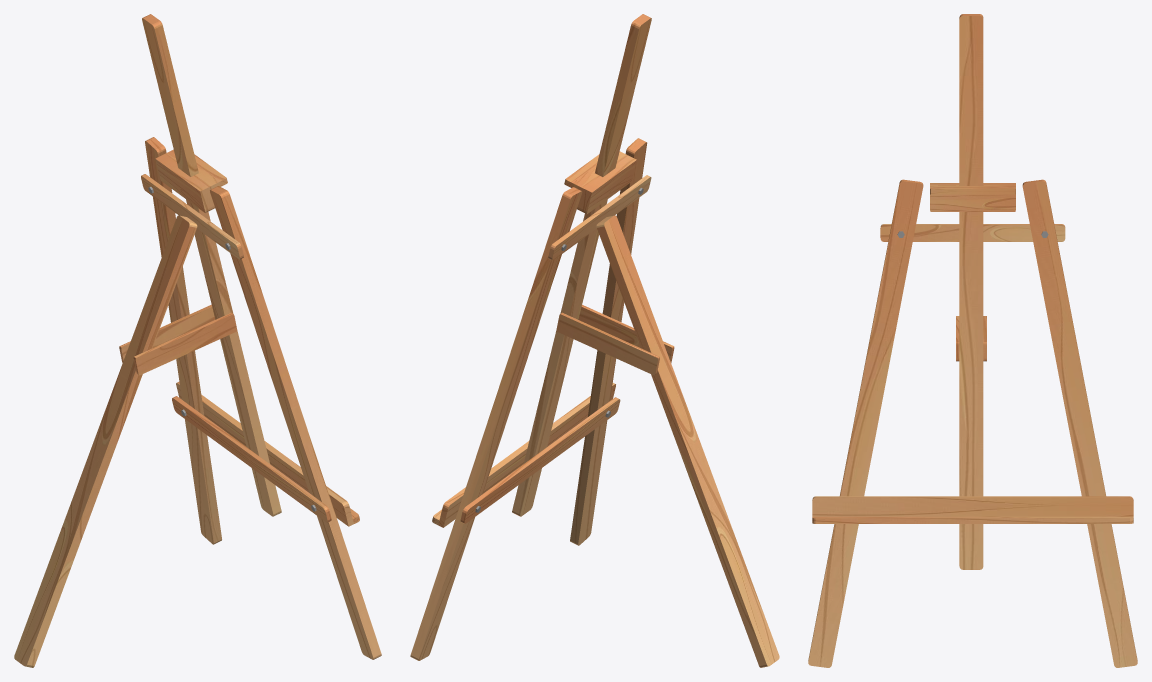
File: pupitre.fbx
3 renders of one model, left to right at view 1: azimuth 30°, elevation 25°; view 2: azimuth 150°, elevation 25°; view 3: azimuth 270°, elevation 25°, orthographic. The views are drawn at different scales.
Parts seen in each view (by area): view 1: Support, TigesCotes, TigeCentrale, TigesCotes.001, ArriereReposeTableau, ReposeTableau, EntreDeuxGauche, Taquet, ArriereHaut, EntreDeuxDroite; view 2: Support, TigesCotes.001, TigeCentrale, TigesCotes, ArriereReposeTableau, ReposeTableau, EntreDeuxDroite, Taquet, ArriereHaut, EntreDeuxGauche; view 3: TigeCentrale, TigesCotes, TigesCotes.001, ReposeTableau, Taquet, ArriereHaut.
Boxes of the visible parts, box(x1,y1,x2,y2) form: Support: box(14, 215, 197, 667); TigesCotes: box(210, 186, 381, 659); TigeCentrale: box(142, 14, 281, 516); TigesCotes.001: box(145, 137, 221, 544); ArriereReposeTableau: box(172, 396, 331, 522); ReposeTableau: box(176, 382, 359, 526); EntreDeuxGauche: box(133, 312, 237, 375); Taquet: box(155, 149, 227, 212); ArriereHaut: box(141, 174, 243, 259); EntreDeuxDroite: box(119, 304, 215, 362); Support: box(596, 215, 779, 667); TigesCotes.001: box(410, 187, 582, 660); TigeCentrale: box(512, 14, 651, 516); TigesCotes: box(570, 138, 647, 545); ArriereReposeTableau: box(460, 397, 620, 523); ReposeTableau: box(432, 383, 615, 527); EntreDeuxDroite: box(556, 312, 659, 375); Taquet: box(564, 151, 636, 213); ArriereHaut: box(548, 175, 651, 260); EntreDeuxGauche: box(578, 304, 674, 362); TigeCentrale: box(959, 14, 983, 569); TigesCotes: box(808, 179, 923, 667); TigesCotes.001: box(1022, 179, 1137, 667); ReposeTableau: box(812, 496, 1133, 523); Taquet: box(930, 183, 1015, 211); ArriereHaut: box(880, 224, 1065, 241).
Size of the model in its own units: 605 by 651 by 1282.
2 materials, 1 textured.
